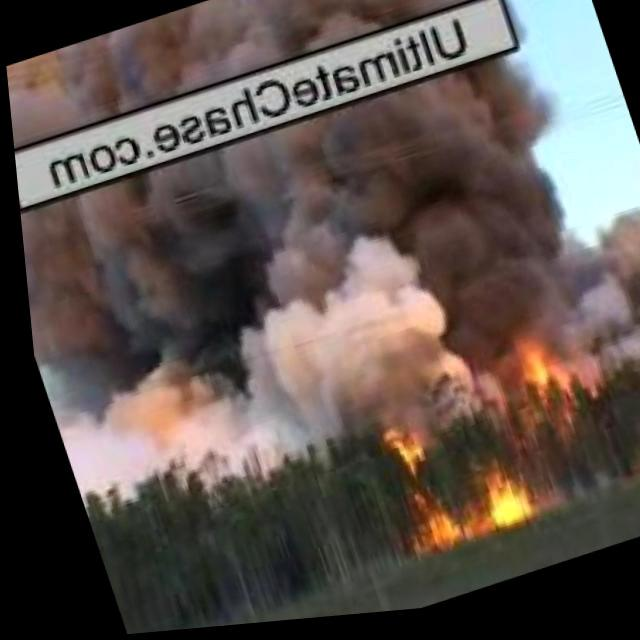fire: (374, 418, 528, 562), (502, 344, 550, 408), (639, 434, 640, 482)
